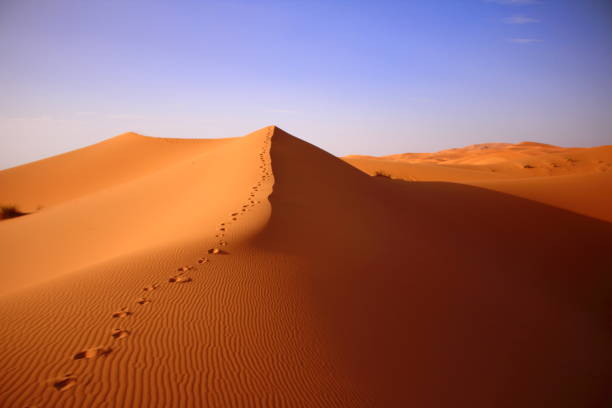animal_footprint: (73, 347, 111, 359), (50, 373, 76, 390), (112, 308, 132, 317), (111, 328, 129, 338), (169, 275, 191, 282), (208, 247, 226, 254), (143, 283, 158, 290), (177, 265, 194, 271), (136, 297, 150, 304), (198, 257, 209, 263), (260, 156, 265, 168), (231, 212, 239, 217), (218, 241, 227, 245), (249, 191, 255, 196), (248, 195, 255, 199), (243, 204, 249, 208), (219, 227, 225, 231), (215, 234, 222, 237), (256, 200, 261, 204), (249, 193, 254, 197), (219, 223, 225, 226), (257, 182, 261, 186), (249, 199, 253, 203), (250, 202, 254, 206), (259, 153, 263, 157), (241, 208, 246, 211), (242, 204, 247, 207), (259, 165, 264, 168), (252, 187, 257, 190), (253, 188, 257, 191), (232, 217, 236, 220)
